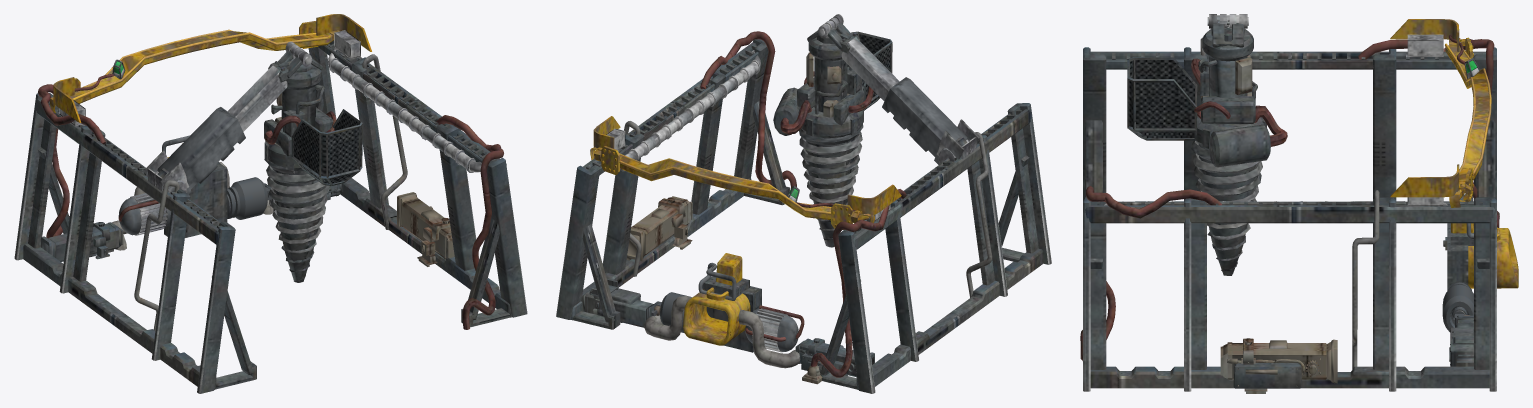
The model's file is electric-mining-drill.glb.
3 views of the same model, side by side, from view 1: azimuth 30°, elevation 25°; view 2: azimuth 150°, elevation 25°; view 3: azimuth 270°, elevation 25° (orthographic). The views are drawn at different scales.
Parts seen in each view (by area): view 1: body, anim_spin_drill; view 2: body, anim_spin_drill; view 3: body, anim_spin_drill.
Boxes of the visible parts, box(x1,y1,x2,y2) form: body: box(14, 14, 527, 393); anim_spin_drill: box(264, 159, 329, 282); body: box(556, 14, 1051, 393); anim_spin_drill: box(799, 125, 863, 247); body: box(1080, 14, 1518, 393); anim_spin_drill: box(1191, 140, 1262, 275).
Bounding box in the file's own units: 2.87 × 2.1 × 2.9.
1 material, 1 textured.
